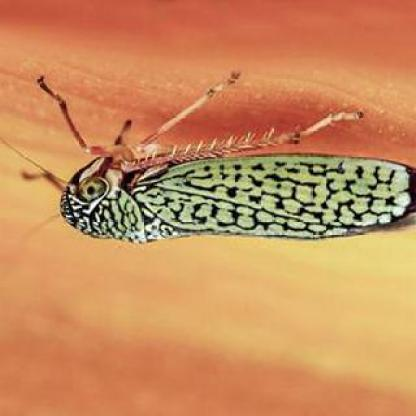green-leafhopper: (52, 139, 406, 243)
